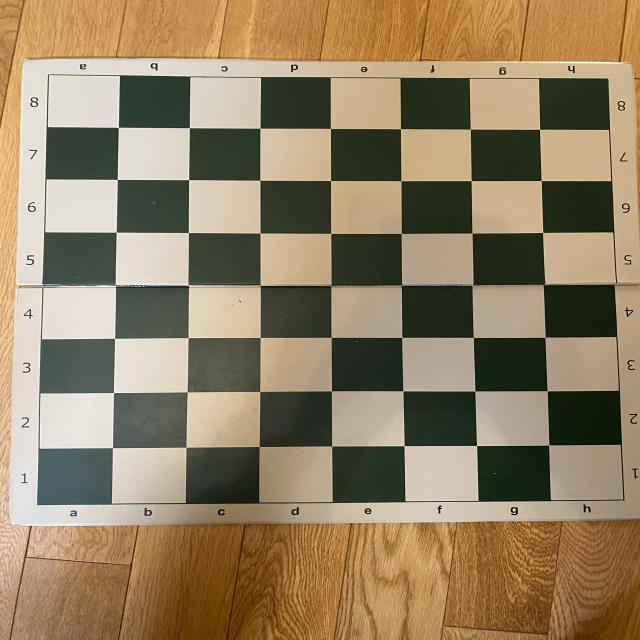Chessboard-Corners: (618, 494, 630, 507), (32, 500, 47, 510), (601, 74, 615, 82), (44, 72, 56, 80)
